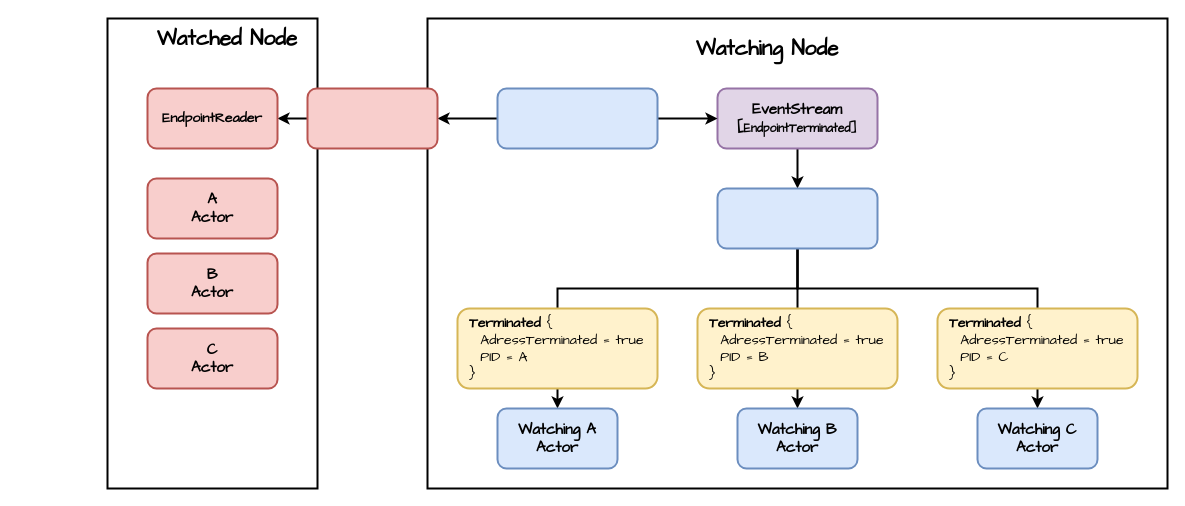
This 1185x506 diagram has some shape labels left out. Here are the shapes that lost their labels. From the top down, the centre of each, then its label:
the point at 372,118: gRPC channel Disconnected
the point at 577,118: EndpointWriter Actor
the point at 797,218: EndpointWatcher Actor
